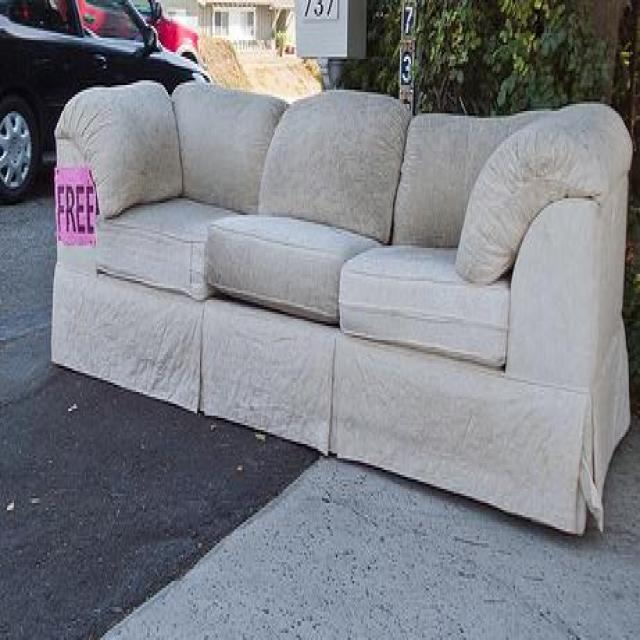sofa: (50, 76, 632, 536)
